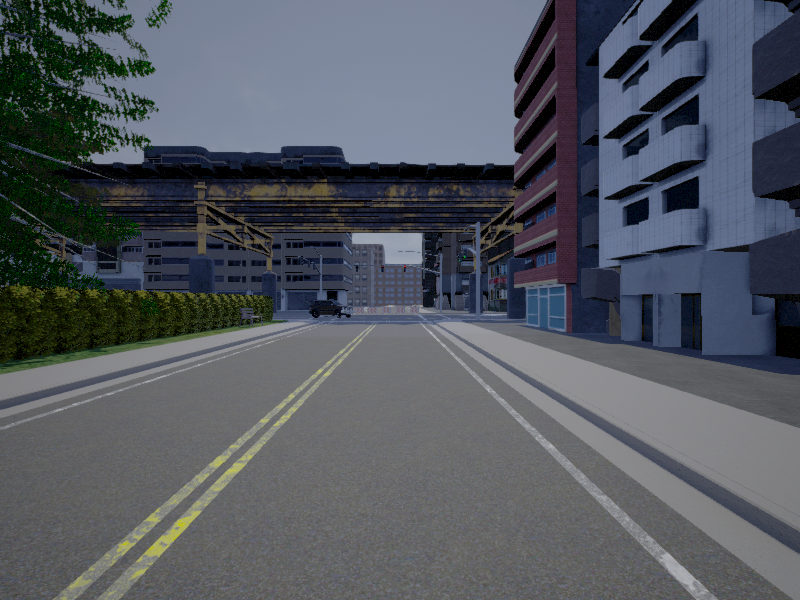Benign: (311, 300, 352, 320)
